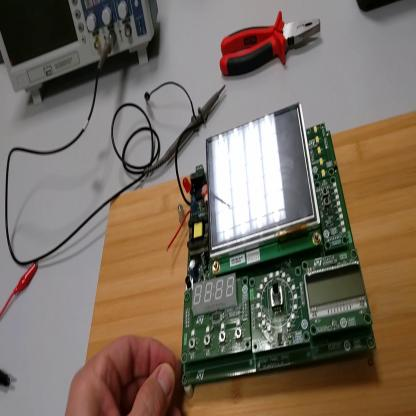hand: (66, 331, 180, 415)
low voltage board: (167, 99, 377, 384)
oscilloscope: (2, 1, 161, 105)
oscilloscope probe tip: (143, 84, 226, 175)
pliers: (221, 5, 323, 77)
working area: (87, 110, 416, 416)
